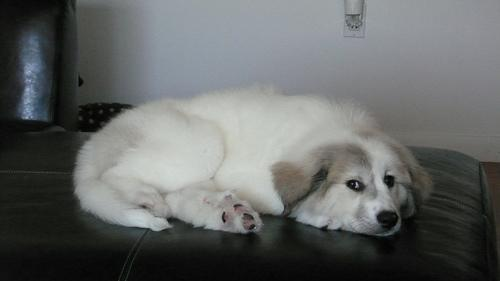Great_Pyrenees: (74, 83, 434, 236)
